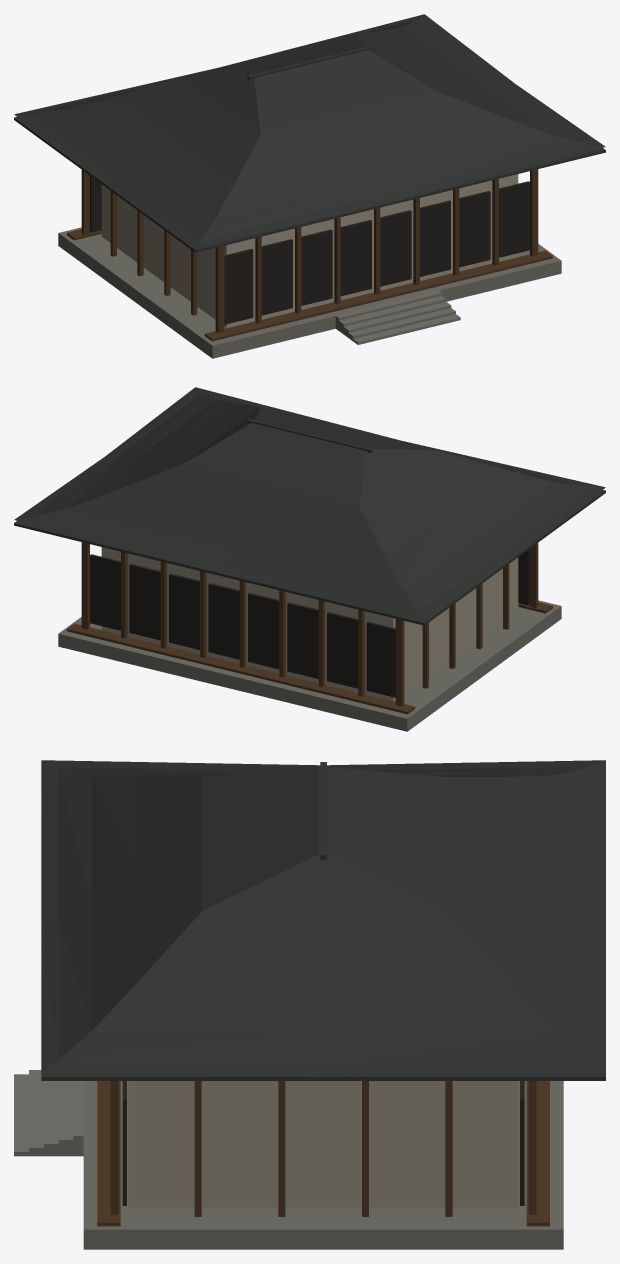
Rendered from tojiJikido.glb.
3 renders of one model, top to bottom at view 1: azimuth 30°, elevation 25°; view 2: azimuth 150°, elevation 25°; view 3: azimuth 270°, elevation 25°, orthographic. The views are drawn at different scales.
Bounding box in the file's own units: 39.75 × 18.34 × 31.89.
